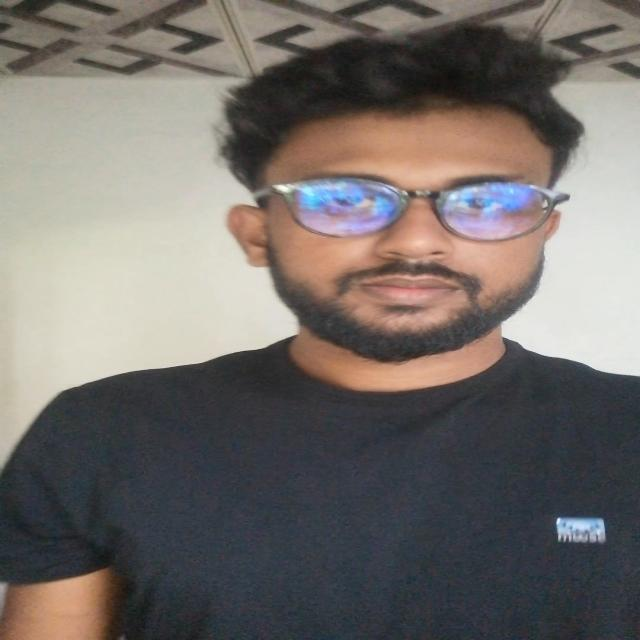Person: (7, 41, 640, 640)
